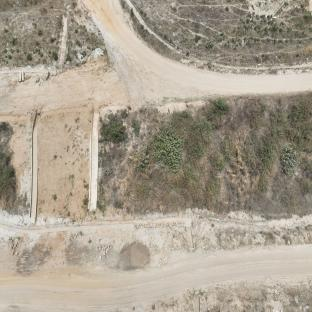slope_drain: (88, 112, 99, 211), (30, 112, 38, 222), (56, 15, 69, 70)
toe_drain: (0, 212, 311, 233)
vegetation: (148, 127, 183, 172), (277, 143, 298, 178), (101, 116, 122, 144)
